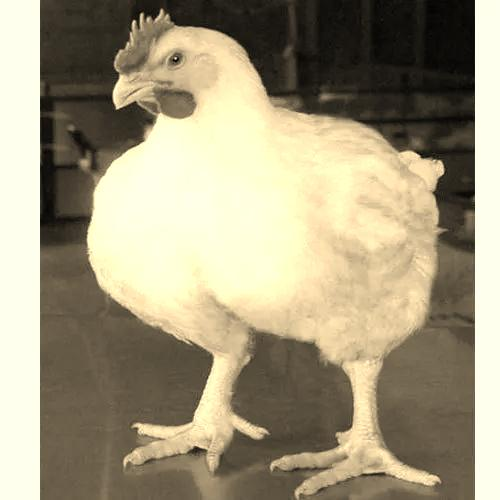Healthy: (76, 6, 455, 490)
